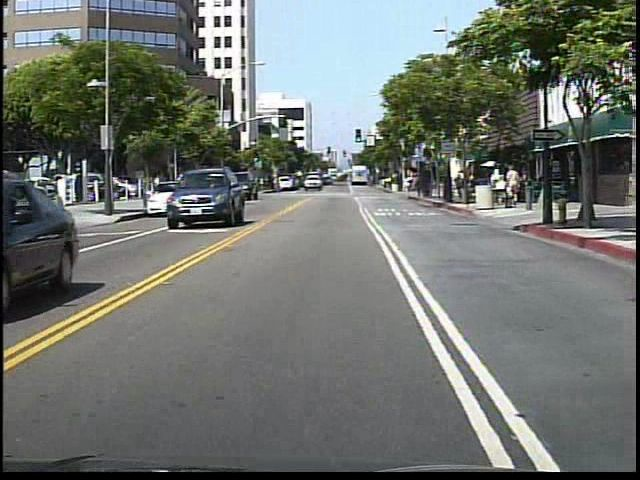person: (454, 173, 467, 200)
